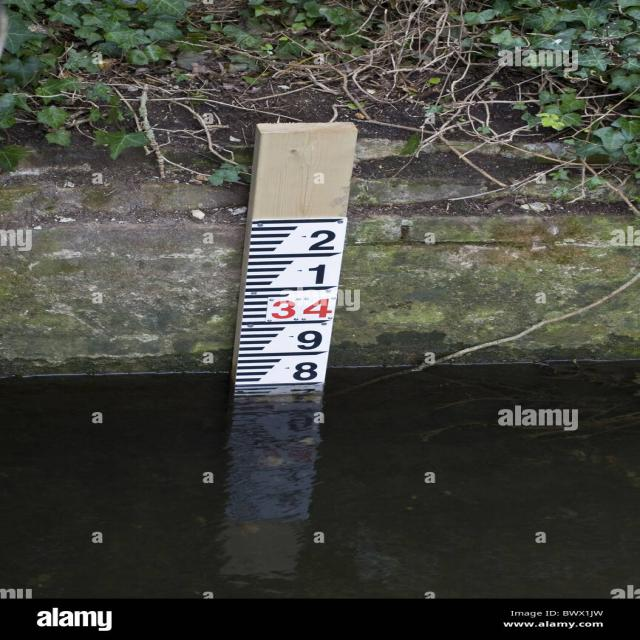ruler: (229, 221, 359, 400)
value: (260, 294, 335, 324), (294, 257, 342, 290), (302, 224, 341, 254), (285, 328, 330, 354), (285, 358, 328, 384)
